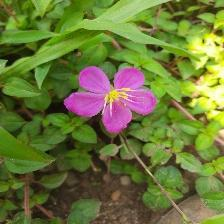malabar melastome: (65, 62, 162, 136)
